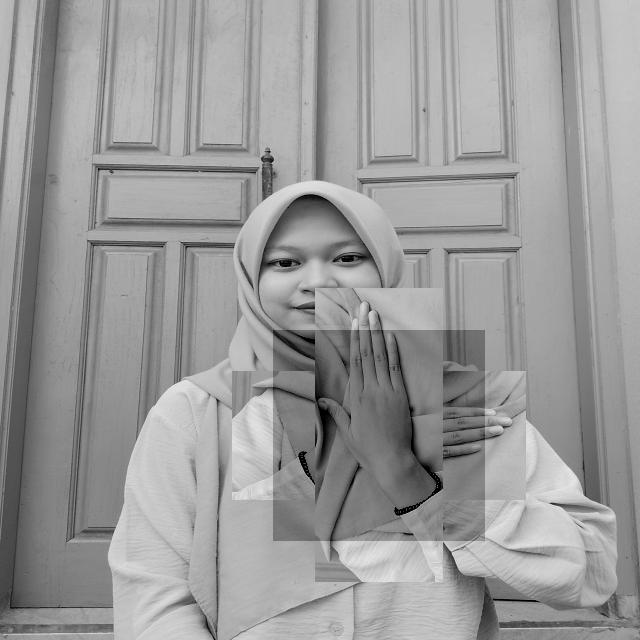tolong: (273, 330, 485, 541)
